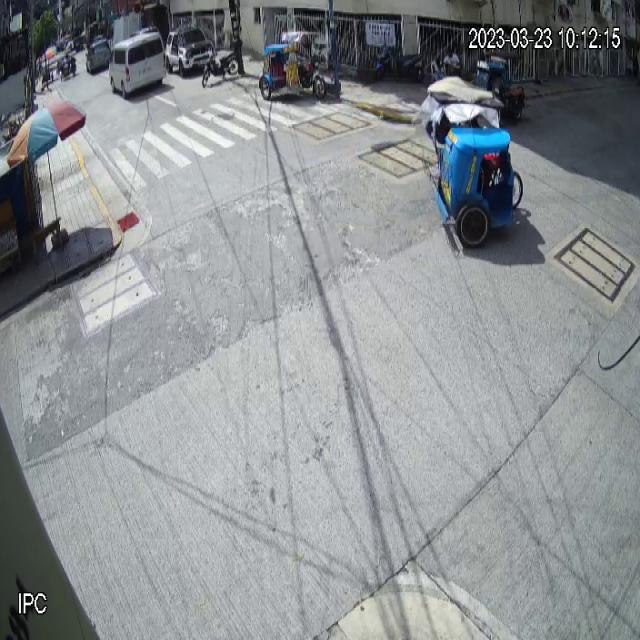Motorcycle: (202, 46, 240, 88)
Tricycle: (420, 74, 524, 248), (259, 31, 327, 101)
Van: (108, 31, 167, 101)
